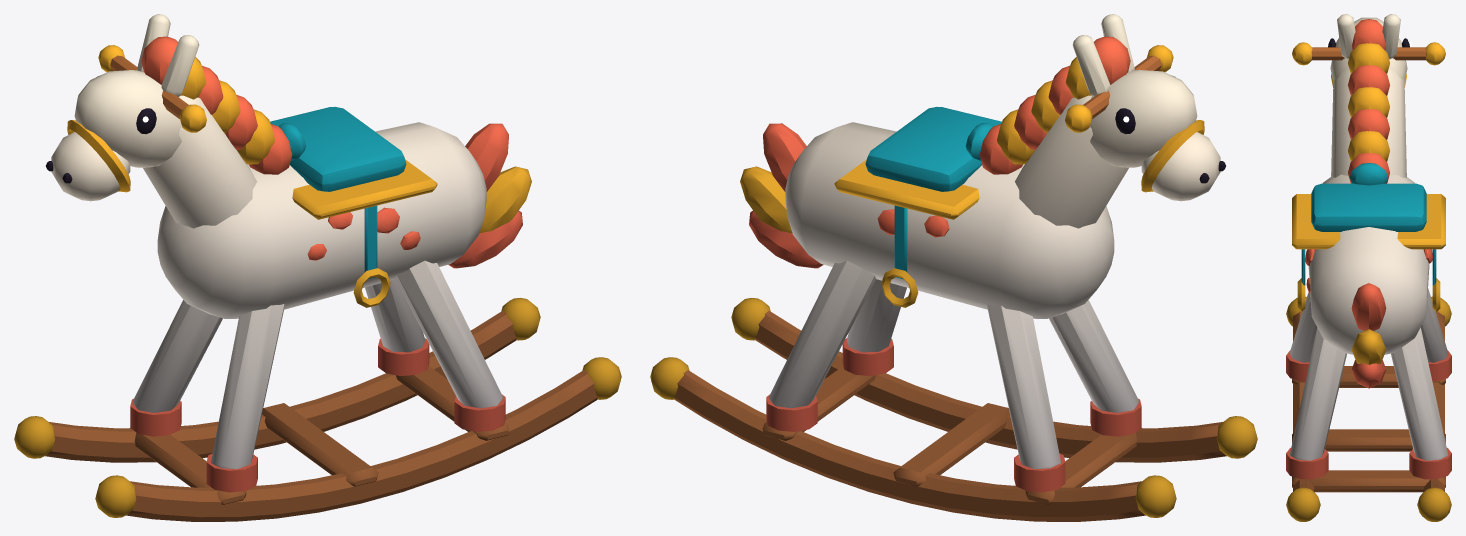
The model's file is rocking_horse.glb.
3 renders of one model, left to right at view 1: azimuth 30°, elevation 25°; view 2: azimuth 150°, elevation 25°; view 3: azimuth 270°, elevation 25°, orthographic. The views are drawn at different scales.
Visible parts, largest first — view 1: rocking_horse; view 2: rocking_horse; view 3: rocking_horse.
Boxes of the visible parts, <box> form: rocking_horse: <box>14,14,621,521</box>; rocking_horse: <box>650,14,1257,521</box>; rocking_horse: <box>1286,14,1451,521</box>.
Size of the model in its own units: 1.26 by 1.11 by 0.43.
